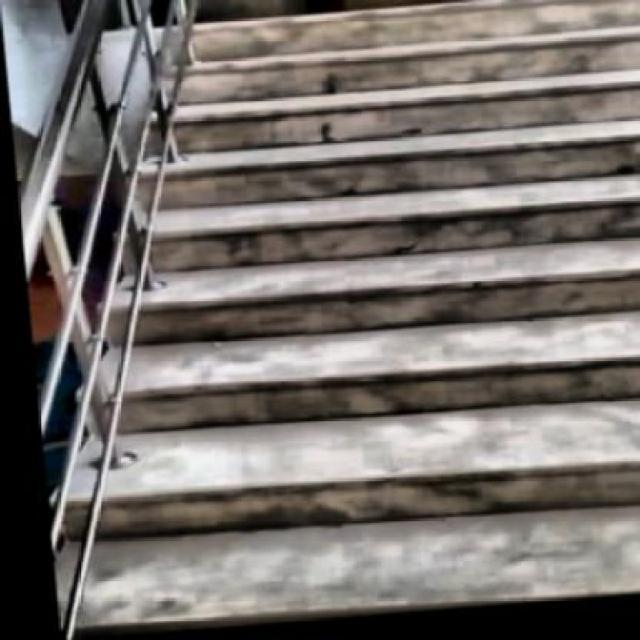stair: (116, 0, 638, 632)
